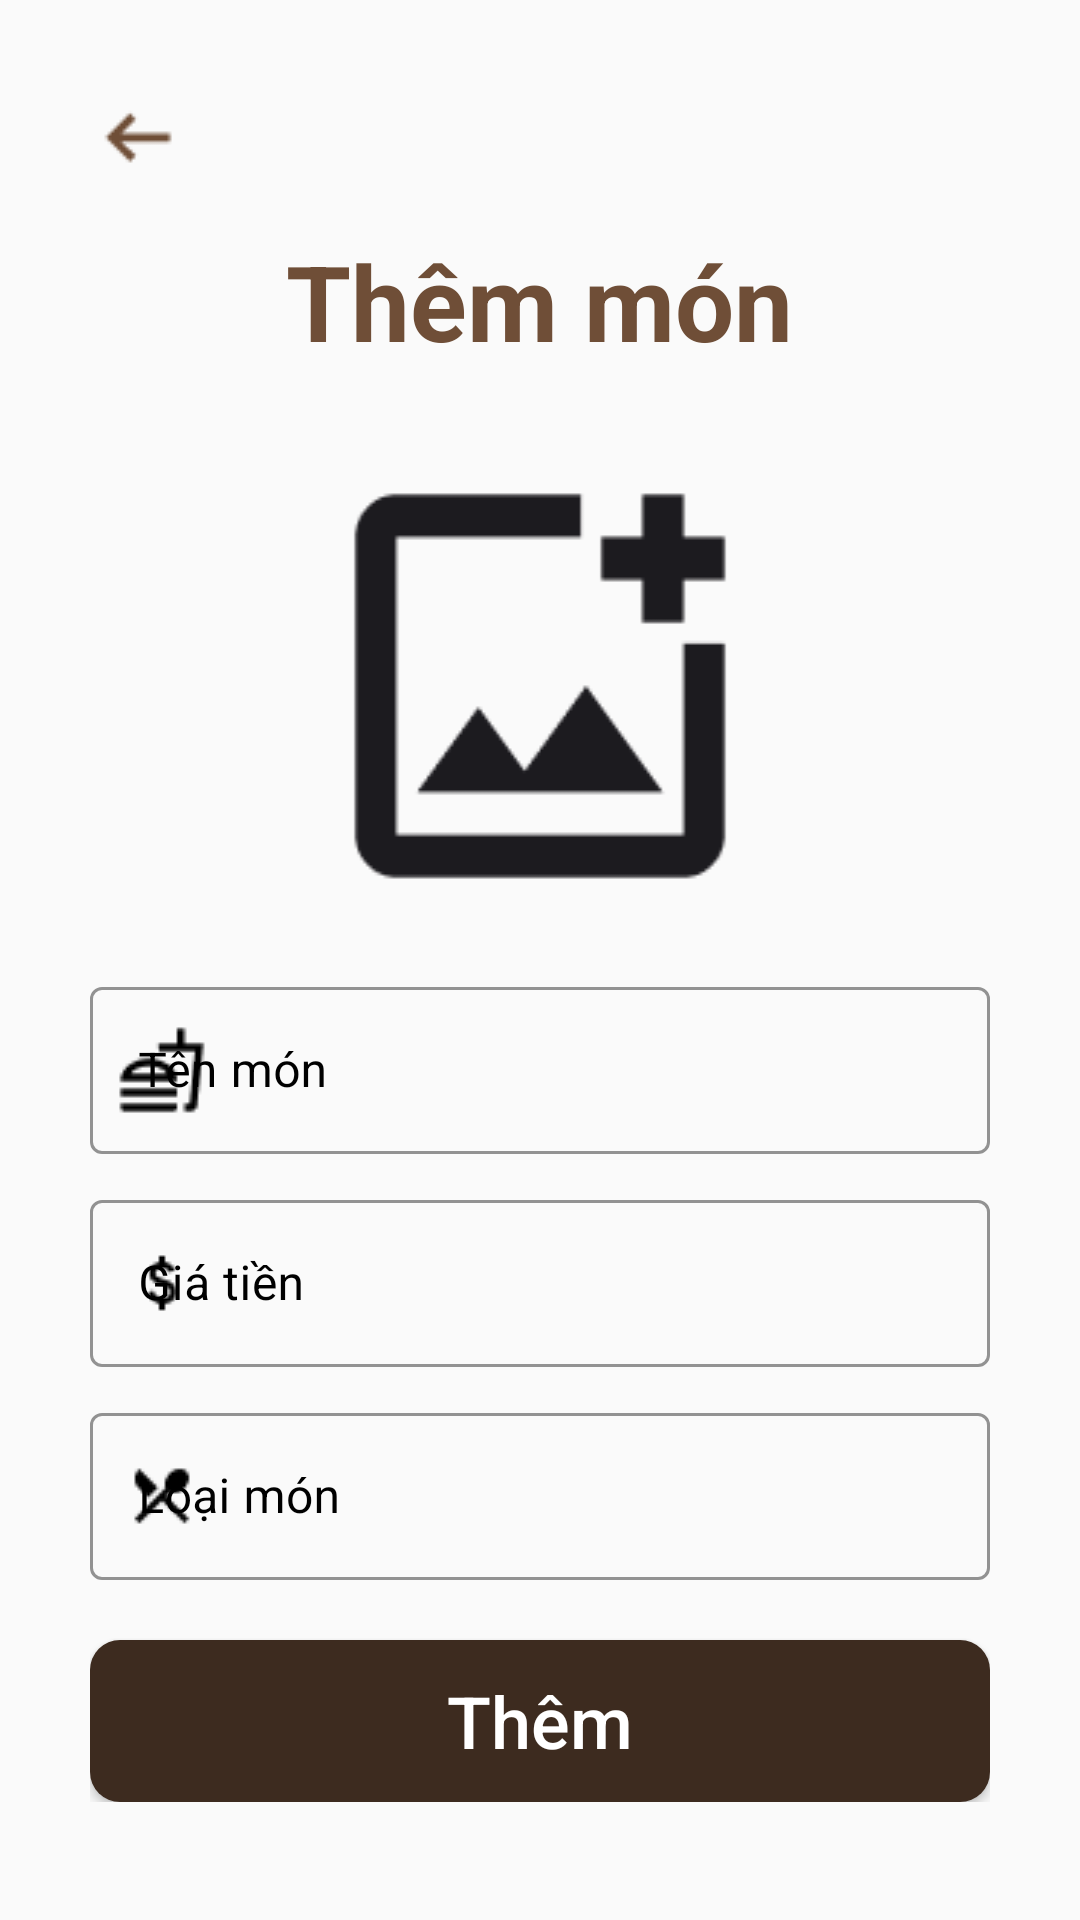

Screen size 1080x1920. Icon name, then its box in pixels as (x1, y1, x2, y2):
arrow left: (105, 113, 172, 163)
